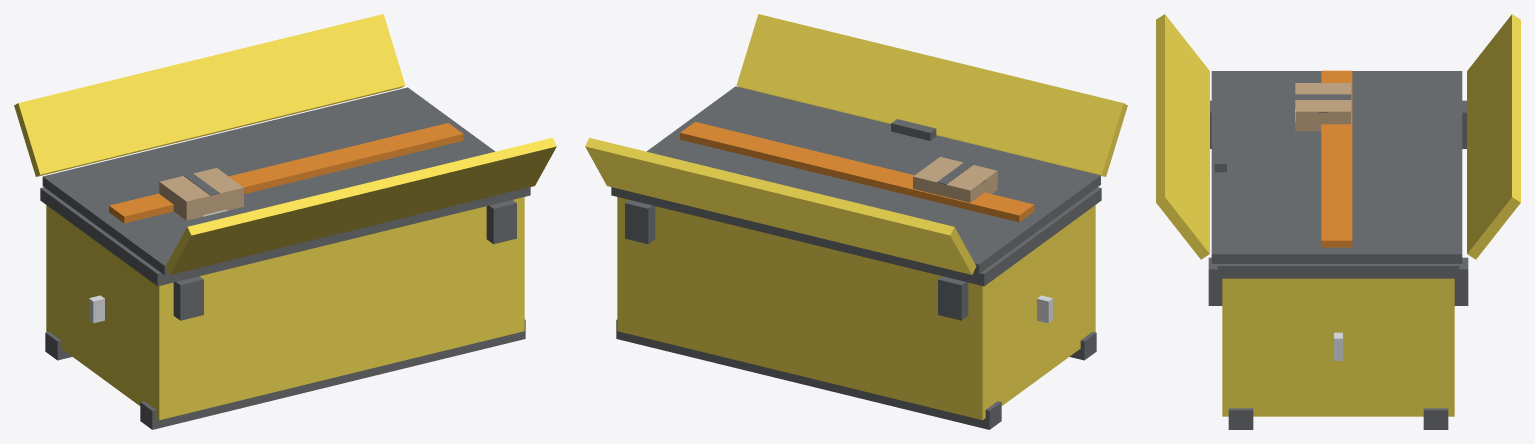
The model's file is self-storage-facility-and-loading-bay-self-storage-fac-d82e2321__34729.glb.
The picture shows the model from 3 angles, left to right: view 1: azimuth 30°, elevation 25°; view 2: azimuth 150°, elevation 25°; view 3: azimuth 270°, elevation 25°; orthographic projection. The views are drawn at different scales.
Visible parts, largest first — view 1: self-storage-facility-and-loading-bay-waste-skip, skip-lid/charcoal, skip-lid/orange; view 2: self-storage-facility-and-loading-bay-waste-skip, skip-lid/charcoal, skip-lid/orange; view 3: self-storage-facility-and-loading-bay-waste-skip, skip-lid/charcoal, skip-lid/orange.
Part boxes in pixels (x1,y1,x2,y2): self-storage-facility-and-loading-bay-waste-skip: [14, 14, 556, 429]; skip-lid/charcoal: [42, 87, 494, 275]; skip-lid/orange: [109, 123, 463, 223]; self-storage-facility-and-loading-bay-waste-skip: [585, 14, 1127, 429]; skip-lid/charcoal: [647, 86, 1100, 273]; skip-lid/orange: [680, 122, 1034, 222]; self-storage-facility-and-loading-bay-waste-skip: [1156, 14, 1520, 429]; skip-lid/charcoal: [1211, 71, 1462, 263]; skip-lid/orange: [1321, 70, 1352, 247].
Size of the model in its own units: 2.98 by 1.65 by 2.36.
